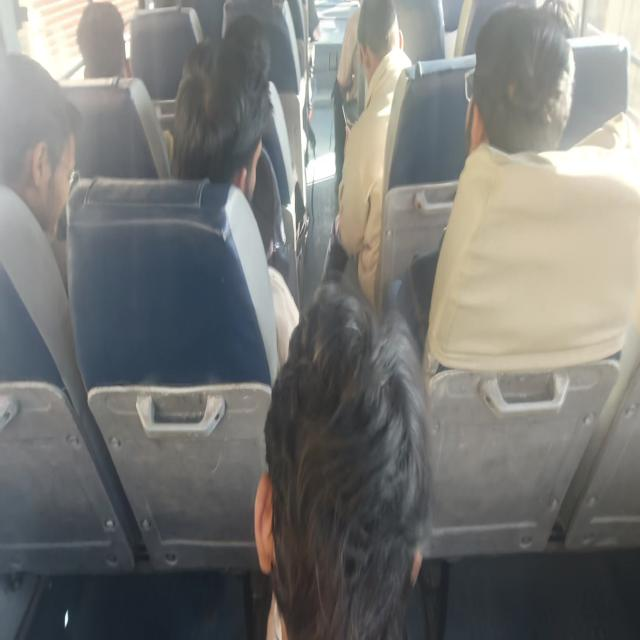person: (415, 1, 639, 375), (254, 278, 432, 638), (170, 21, 300, 375), (320, 0, 412, 306), (0, 51, 82, 296), (73, 1, 171, 176), (75, 0, 131, 80)
